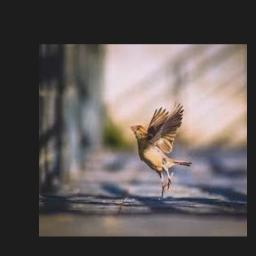Sparrow: (130, 101, 191, 200)
